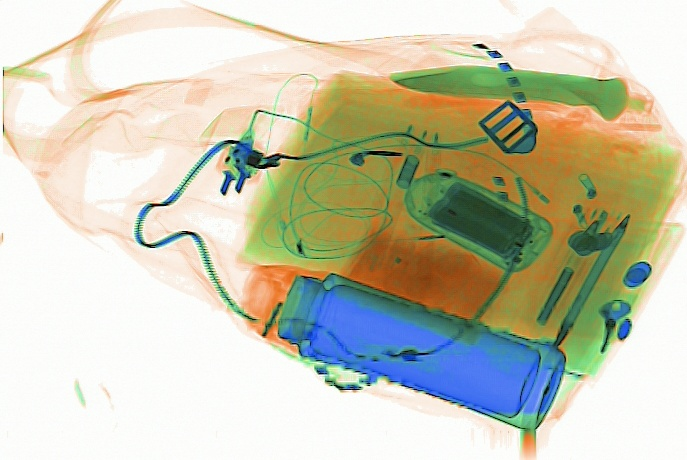powerbank: (403, 166, 553, 272)
